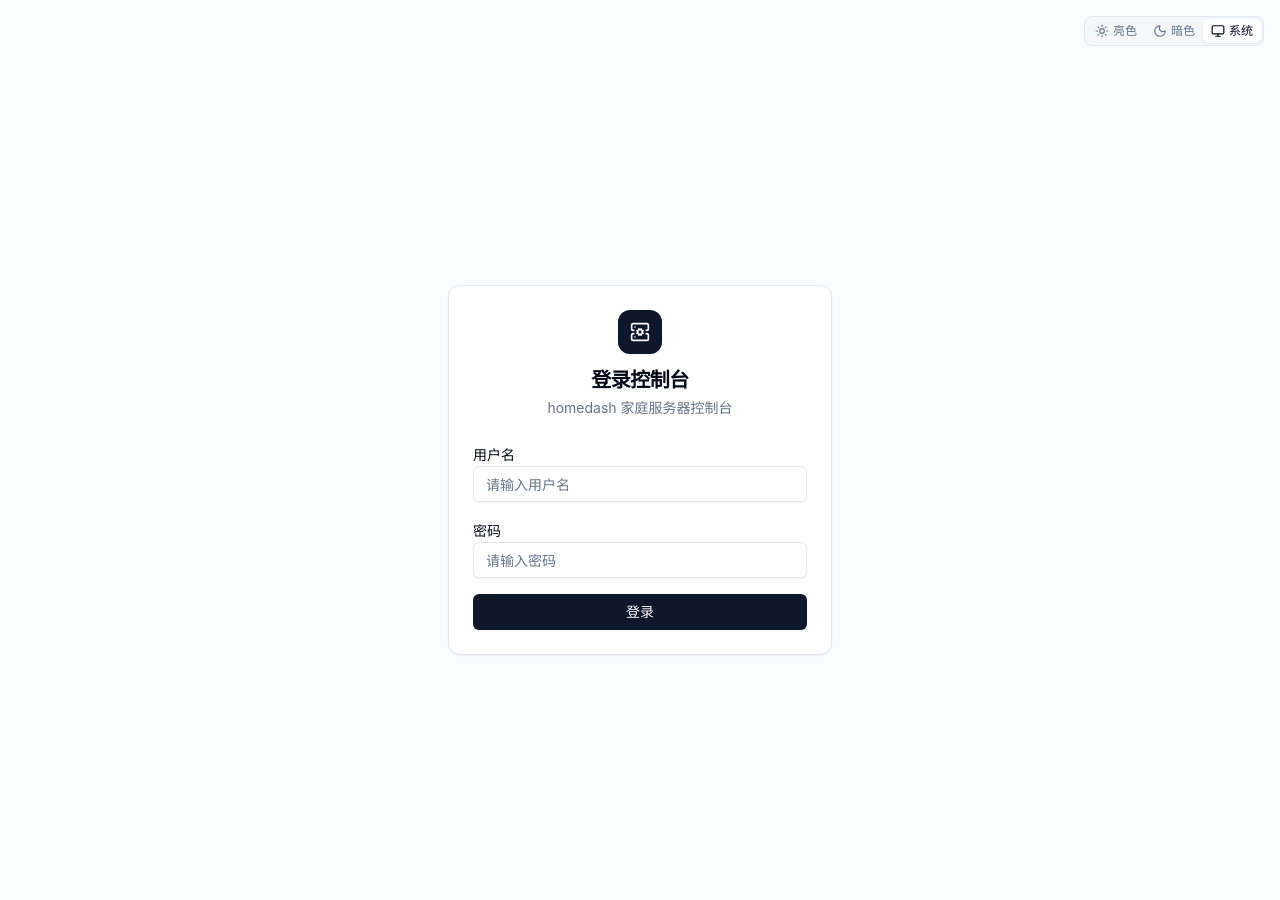
Test: homedash 前端认证与控制台 › 登录成功后自动回跳到 redirect 指定的受保护页面
Expected: the button "登录" is shown, x1=473 y1=594 x2=807 y2=630
In the field labelled "用户名": (640, 484) x1=473 y1=466 x2=807 y2=502, type "admin"
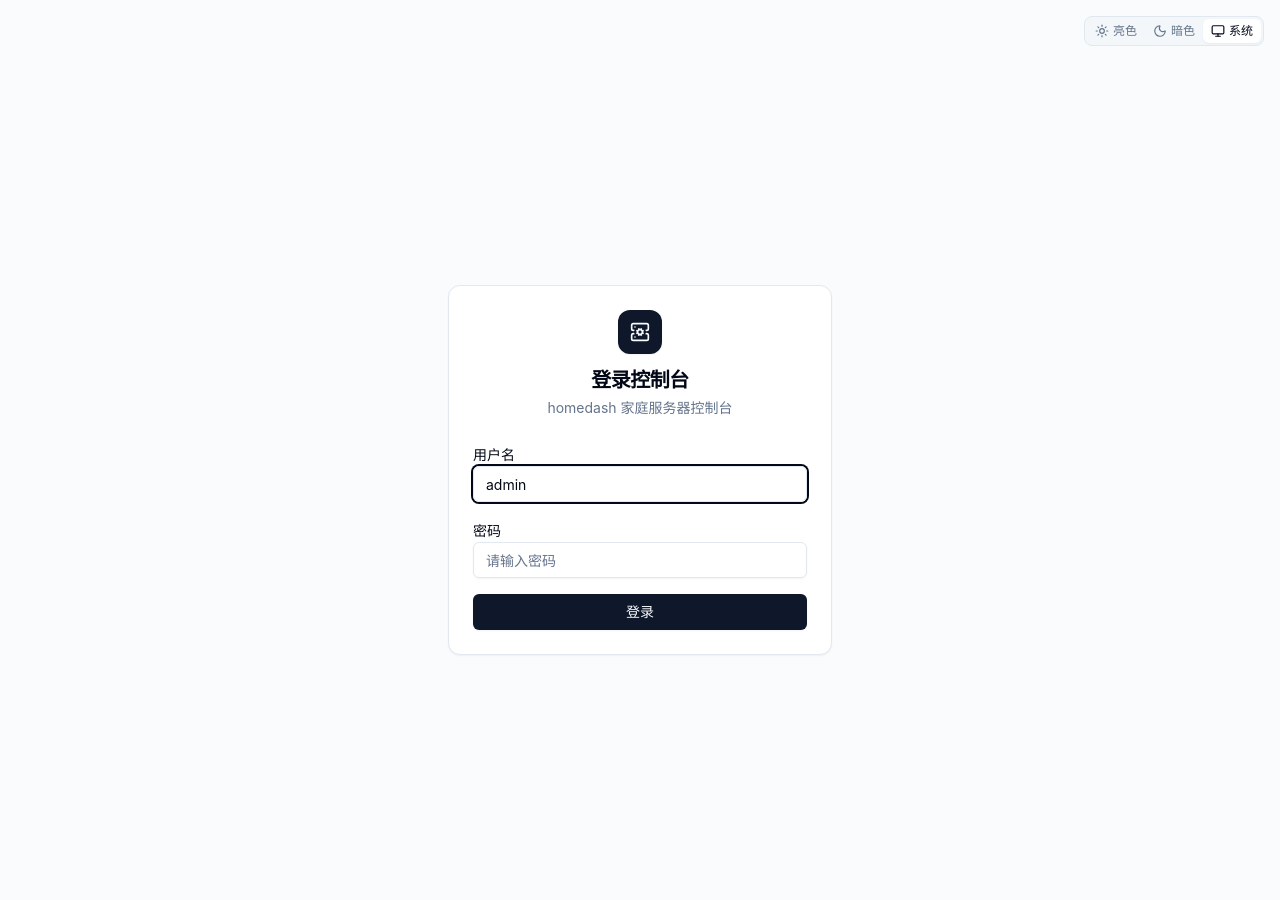
In the password field labelled "密码": (640, 560) x1=473 y1=542 x2=807 y2=578, type "test-pass-placeholder"
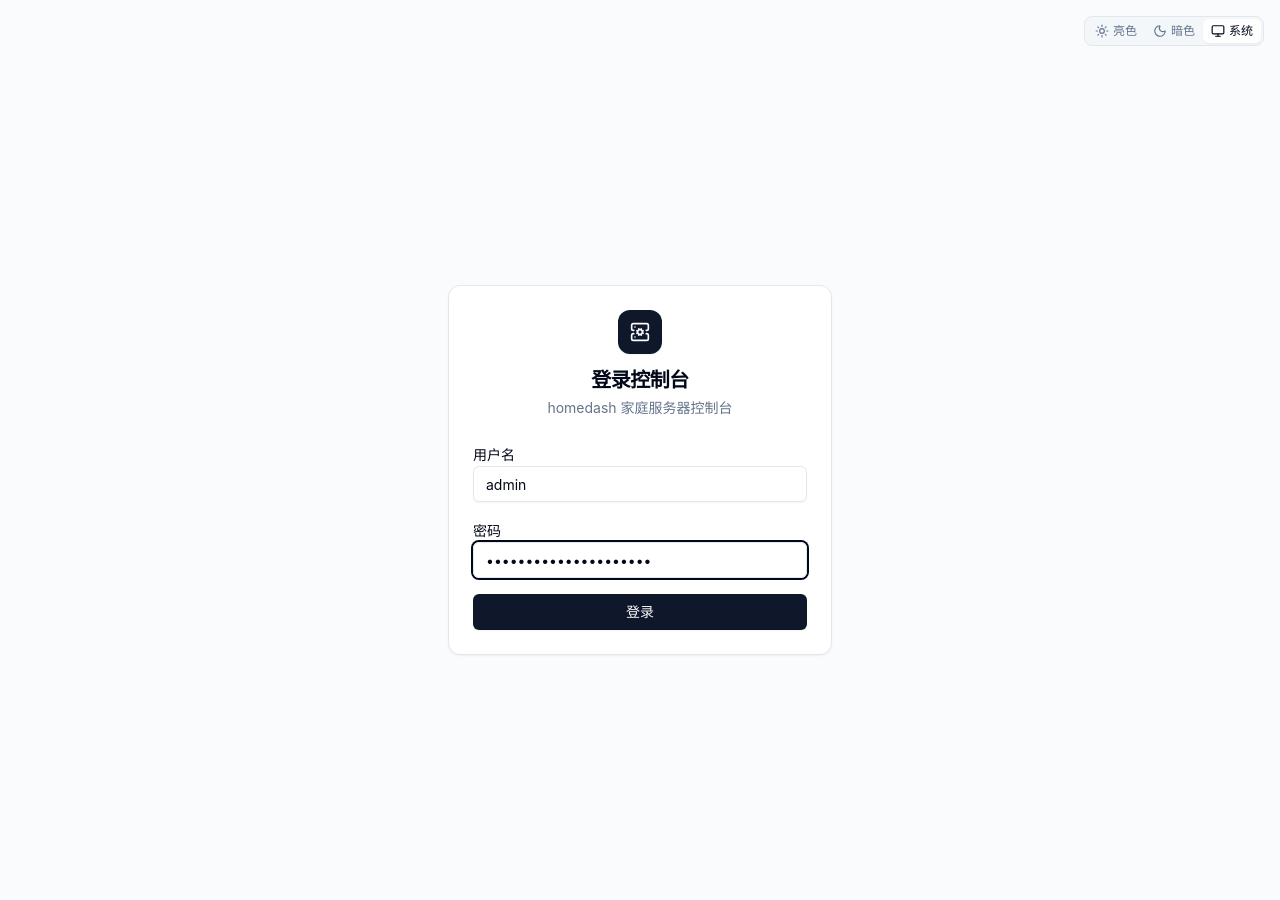
Click the button "登录": (640, 612) x1=473 y1=594 x2=807 y2=630
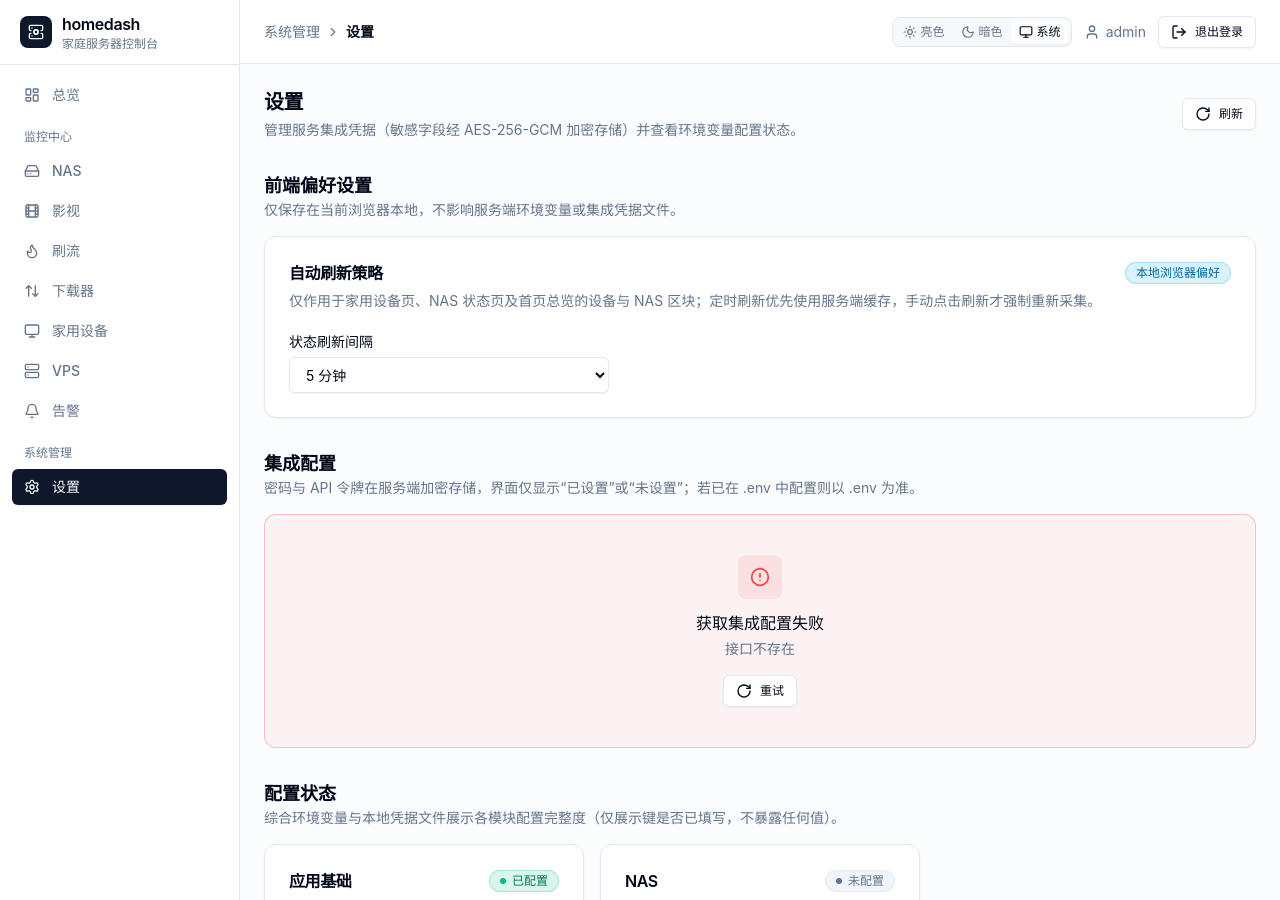
Expected: the heading "设置" is shown, x1=264 y1=90 x2=303 y2=114
Expected: the heading "应用基础" is shown, x1=289 y1=869 x2=351 y2=893
